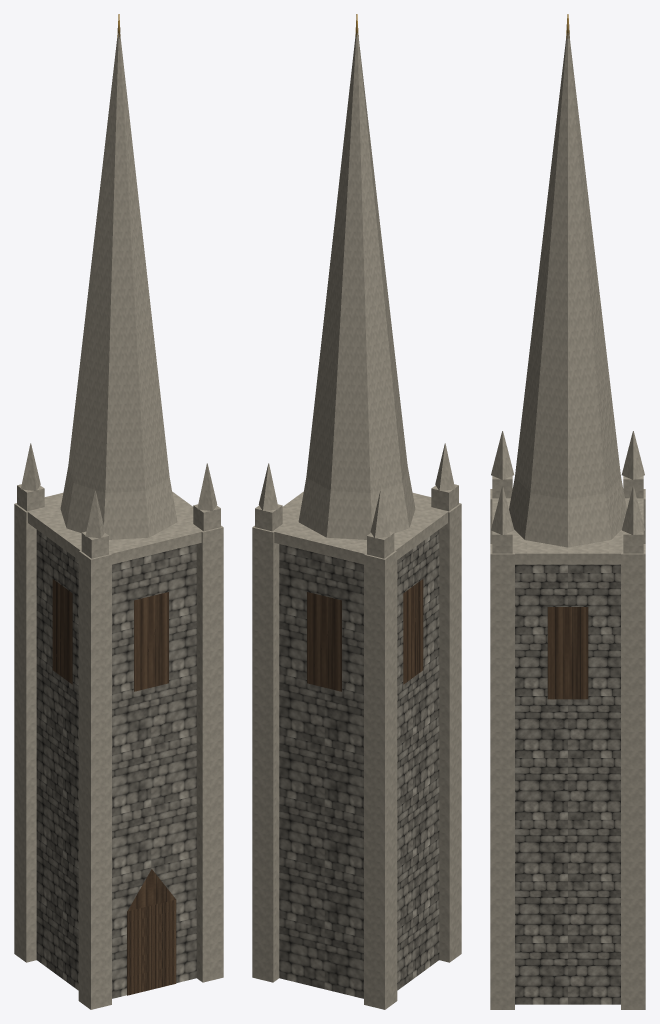
File: Spire_Church_1_LOD1.gltf
3 renders of one model, left to right at view 1: azimuth 30°, elevation 25°; view 2: azimuth 150°, elevation 25°; view 3: azimuth 270°, elevation 25°, orthographic.
Parts seen in each view (by area): view 1: Spire_Church_1_LOD1; view 2: Spire_Church_1_LOD1; view 3: Spire_Church_1_LOD1.
Part boxes in pixels (x1,y1,x2,y2): Spire_Church_1_LOD1: (14, 14, 223, 1009); Spire_Church_1_LOD1: (252, 14, 461, 1009); Spire_Church_1_LOD1: (490, 14, 645, 1009).
Size of the model in its own units: 7.6 by 52 by 7.6.
Materials: 4 (4 with a texture image).
